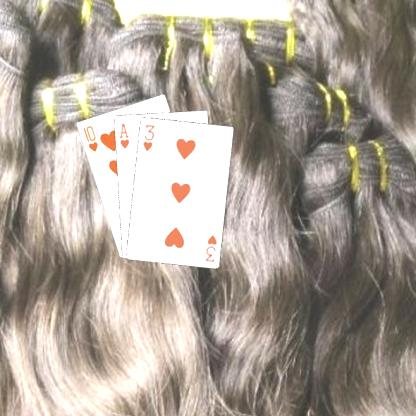10H: (80, 123, 99, 153)
3H: (202, 231, 218, 263), (140, 122, 156, 152)
AH: (116, 120, 130, 150)
